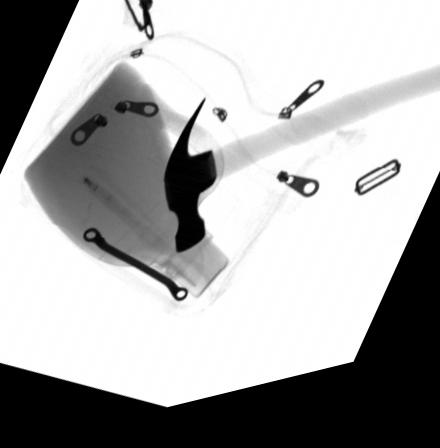Hammer: (163, 84, 440, 262)
Wrench: (80, 232, 187, 310)
